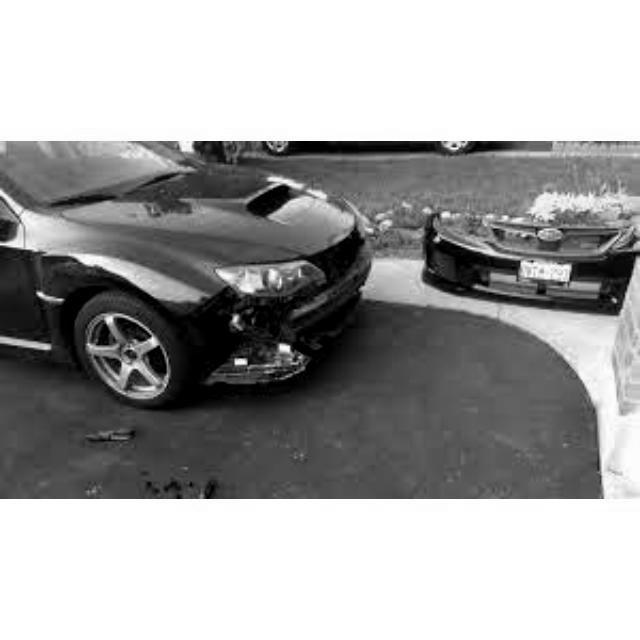front-bumper-dent: (152, 291, 405, 395)
